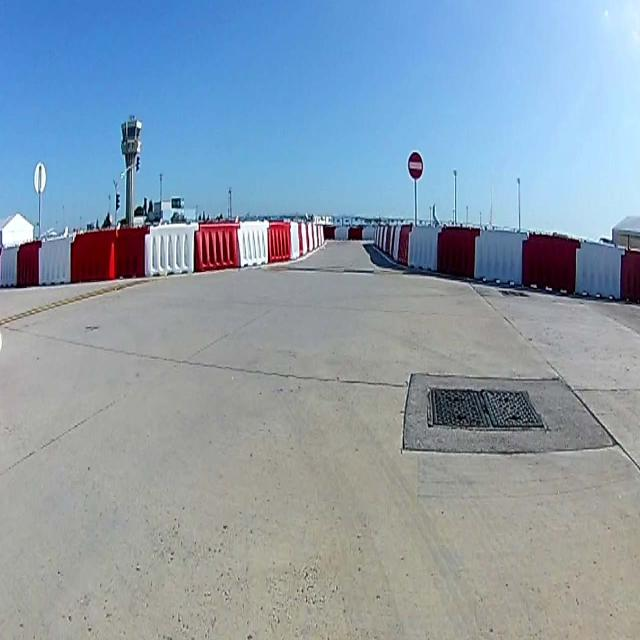girisyok: (406, 150, 424, 180)
